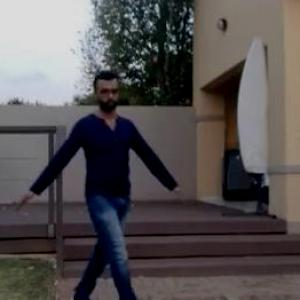land: (22, 74, 172, 299)
